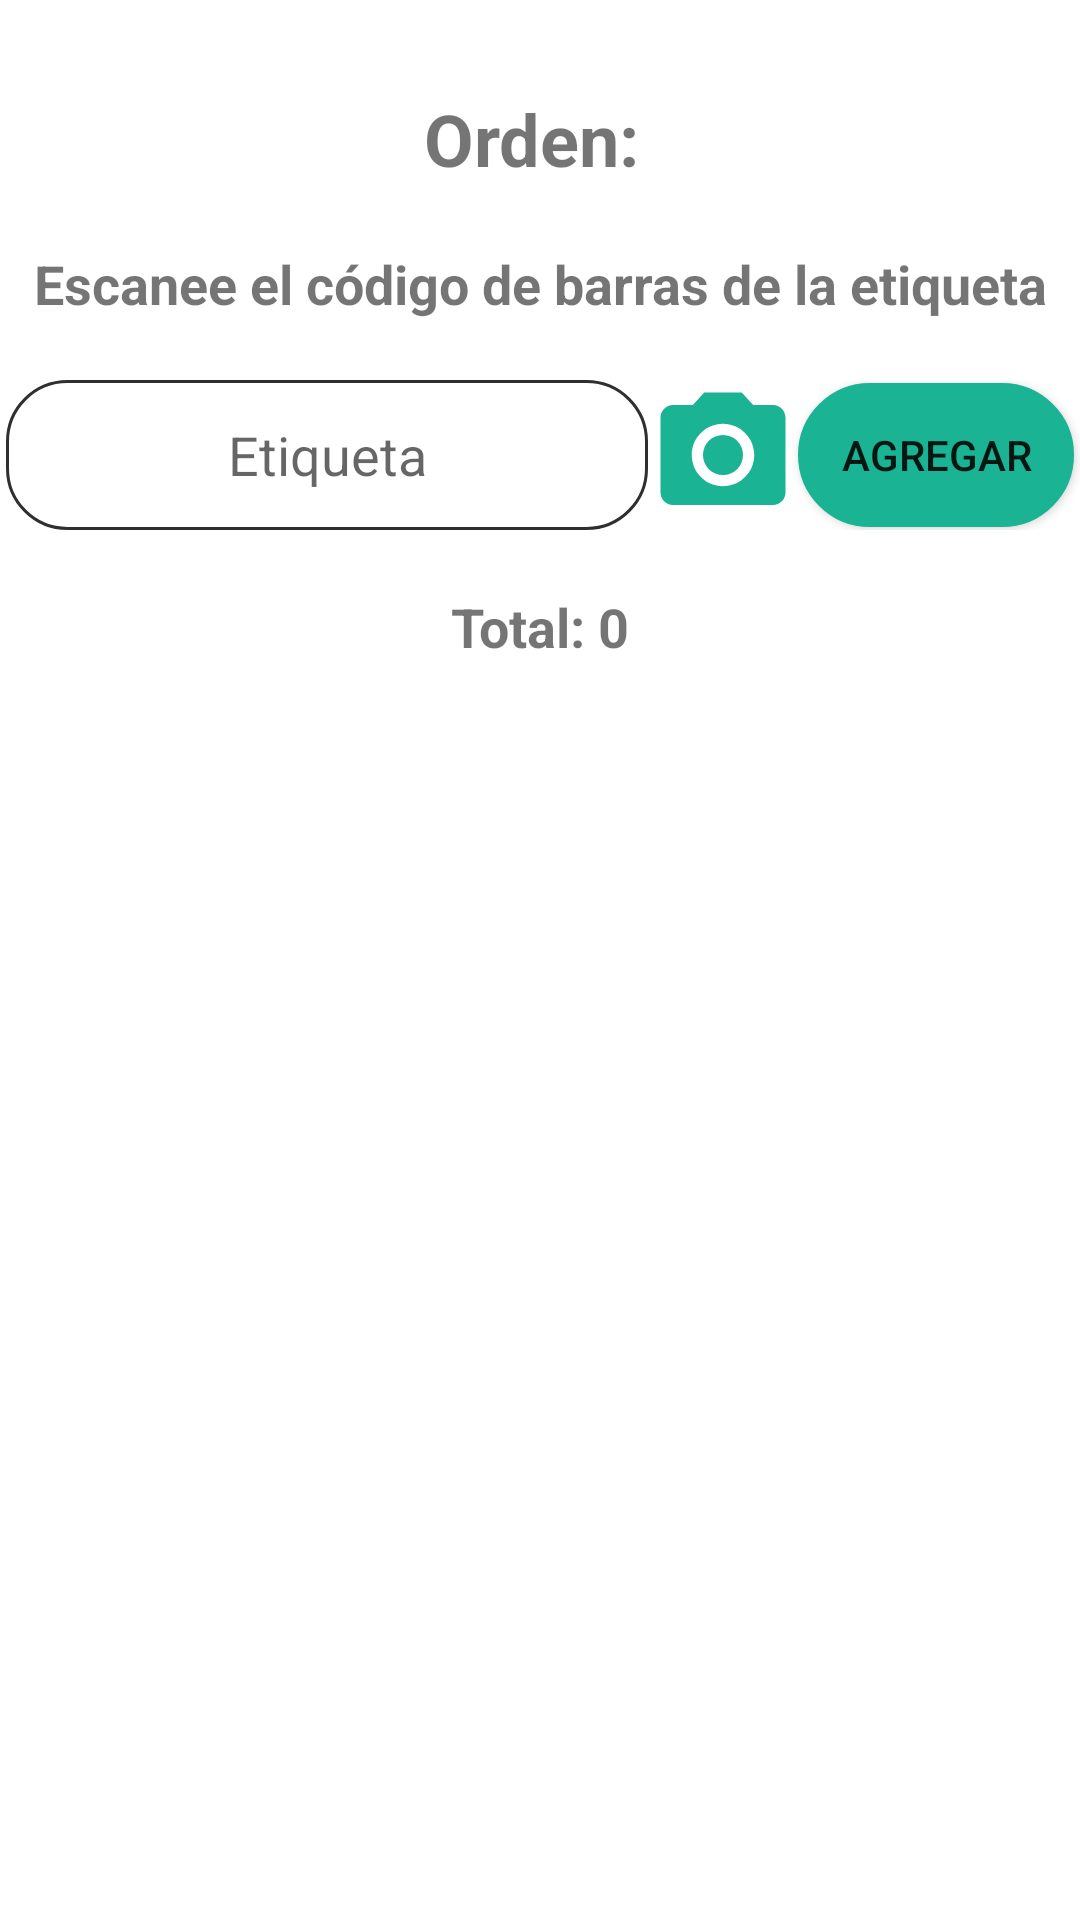

Icons on this 1080w x 1920h Android screen, each with the point to tap as point (x, y):
photo camera: point (723, 448)
